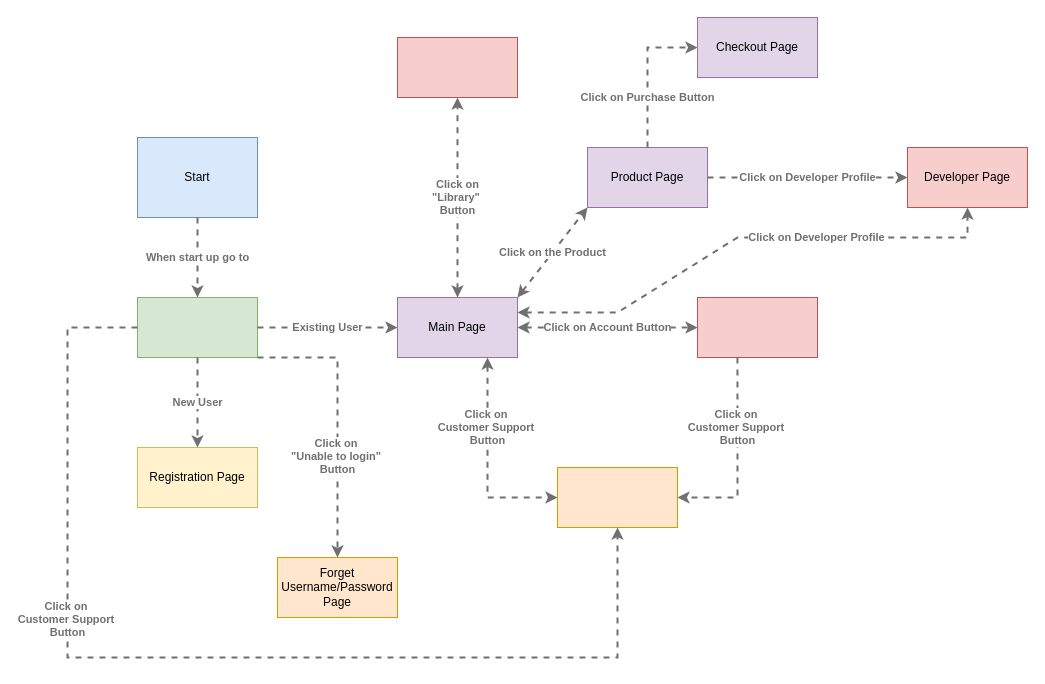
Some shapes in this 1045 by 684 pixel diagram are drawn without their labels. The box of each missing label's shape, as (x1, y1, x2, y2) in pixels:
Customer Support Page: (556, 466, 678, 528)
Login Page: (136, 296, 258, 358)
User Account Page: (696, 296, 818, 358)
User's Product Library: (396, 36, 518, 98)
